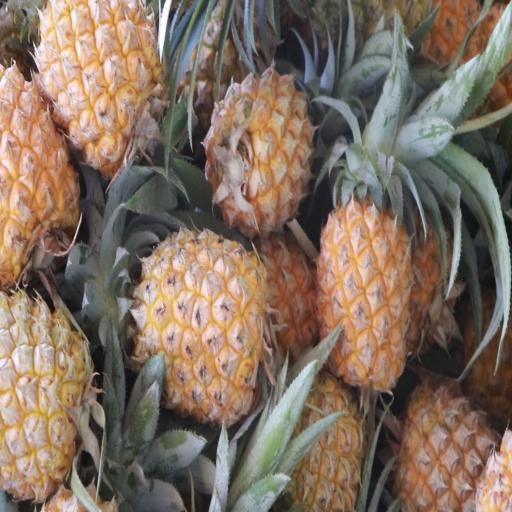------------------------------: (401, 389, 500, 512)
Pineapple - v8 v1: (137, 232, 266, 421), (36, 0, 164, 168), (0, 291, 97, 499), (316, 188, 414, 388), (0, 59, 79, 280), (209, 74, 311, 233), (282, 380, 367, 508)
